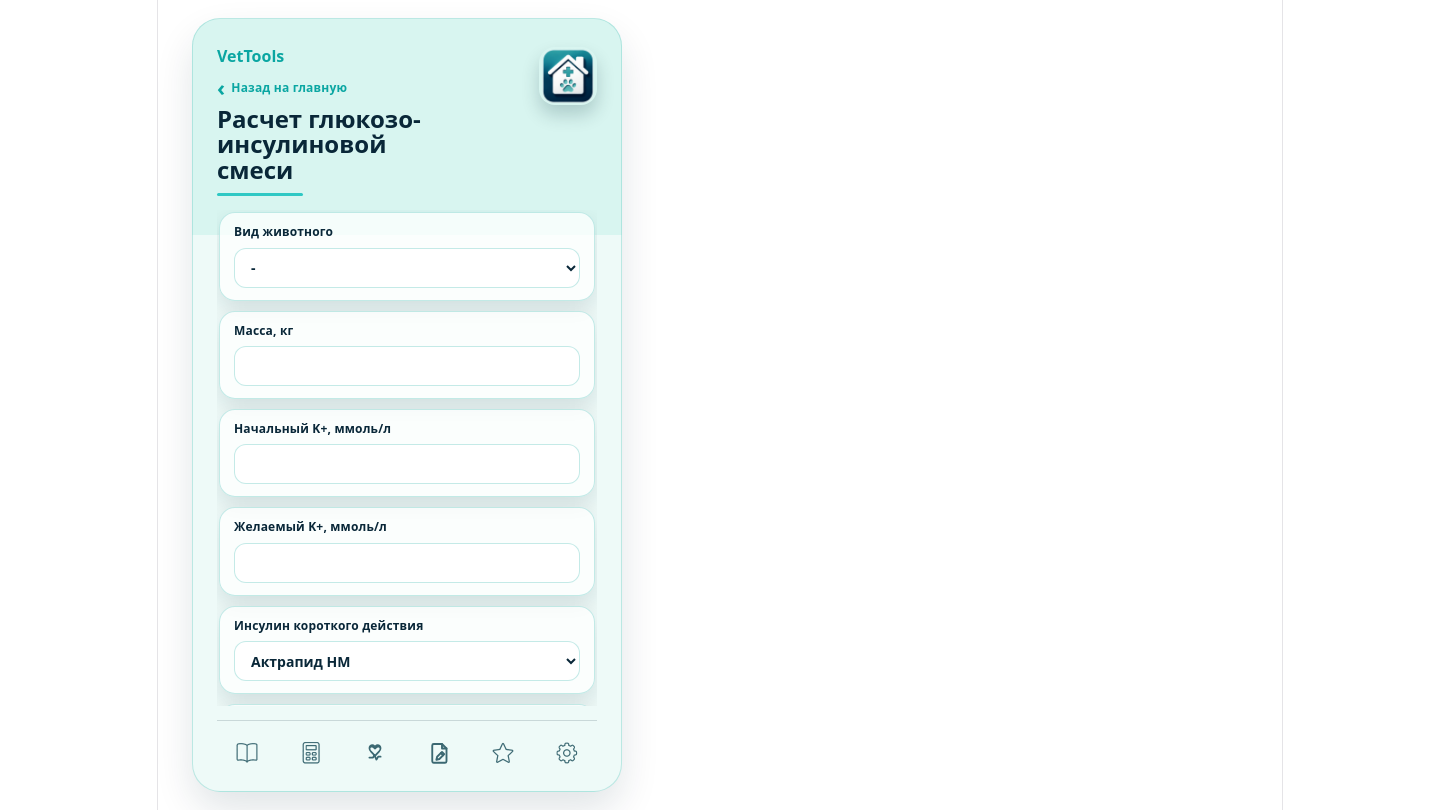
Scenario: GlucoseInsulinPage › calculates the regular insulin and 50% glucose protocol
Expected: the heading "Расчет глюкозо-инсулиновой смеси" is shown, [217,106,455,196]
Select "Собака" in the dropdown labelled "Вид животного" at {"x": 407, "y": 268}, box [234,248,580,288]
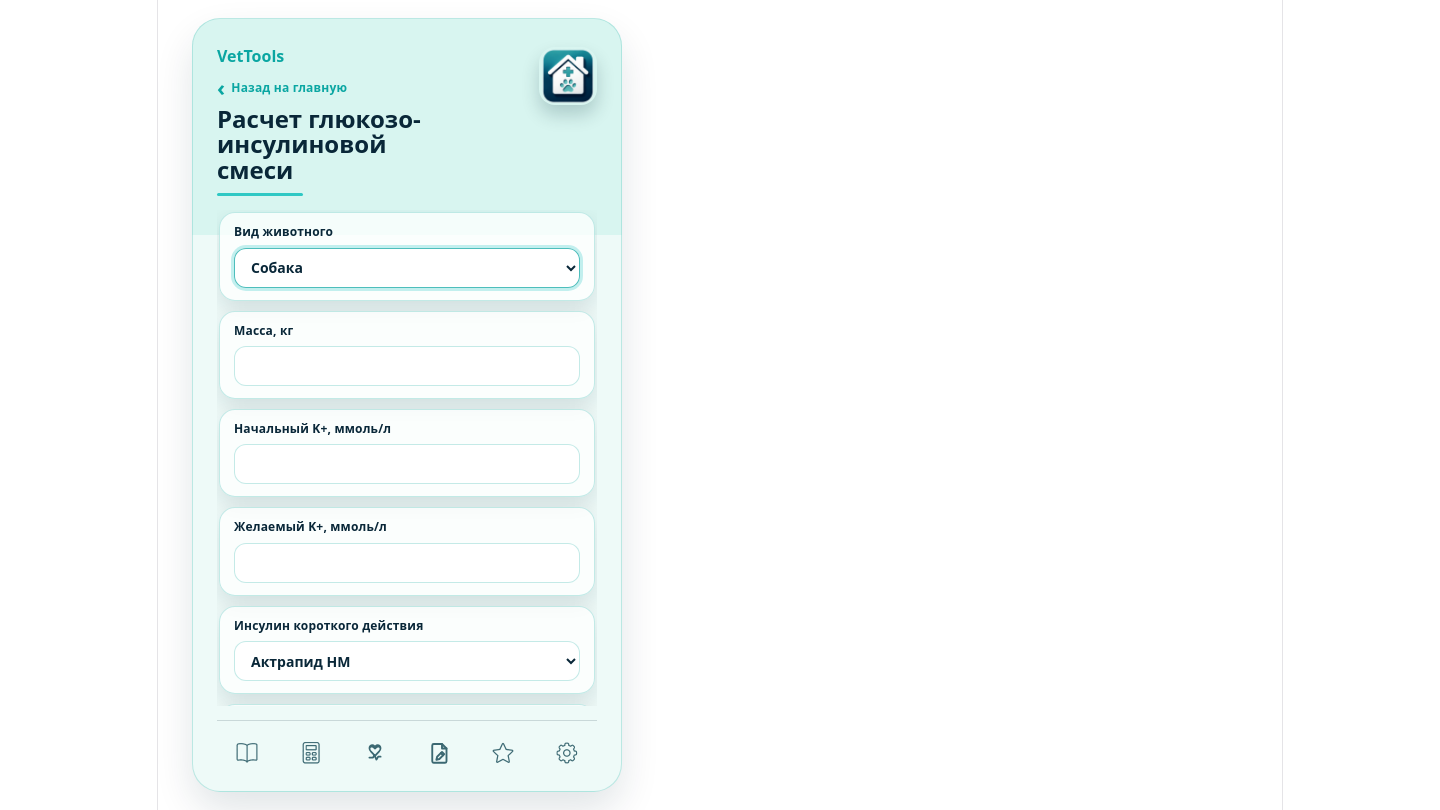
Type "10" into the number field labelled "Масса, кг".
click(407, 366); type("10")  # box [234,346,580,386]
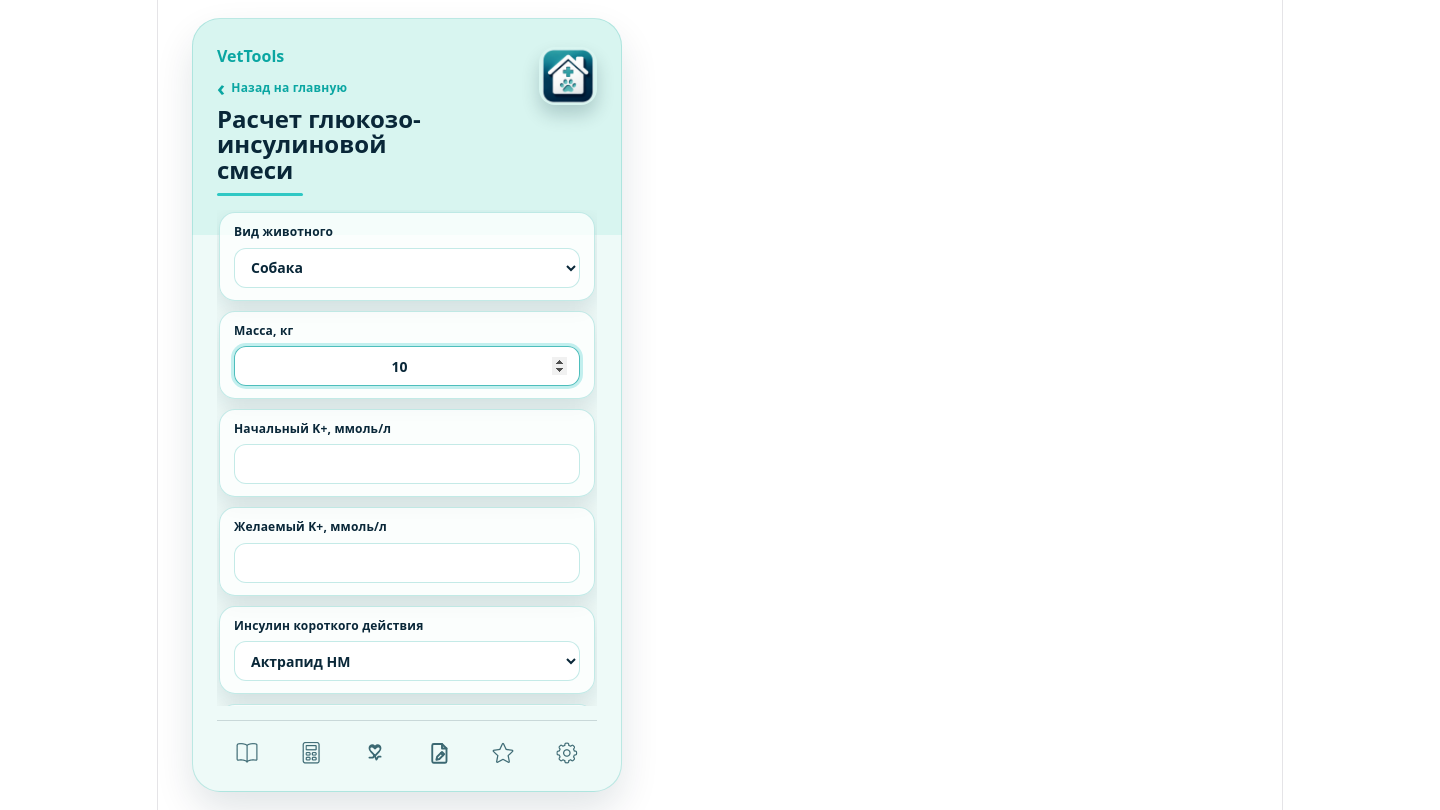
Type "8" into the number field labelled "Начальный K+, ммоль/л".
click(407, 464); type("8")  # box [234,444,580,484]
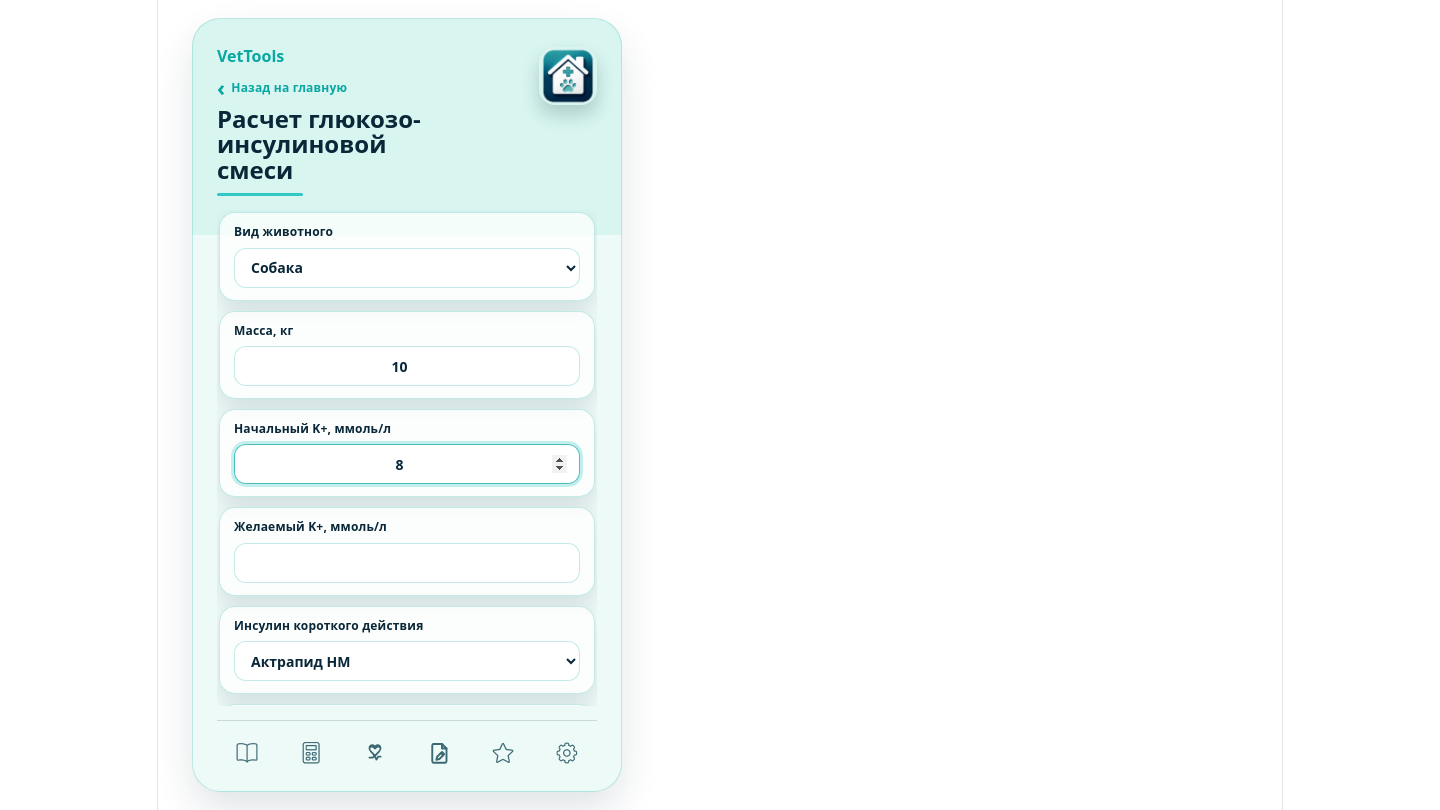
Type "6" into the number field labelled "Желаемый K+, ммоль/л".
click(407, 563); type("6")  # box [234,543,580,583]
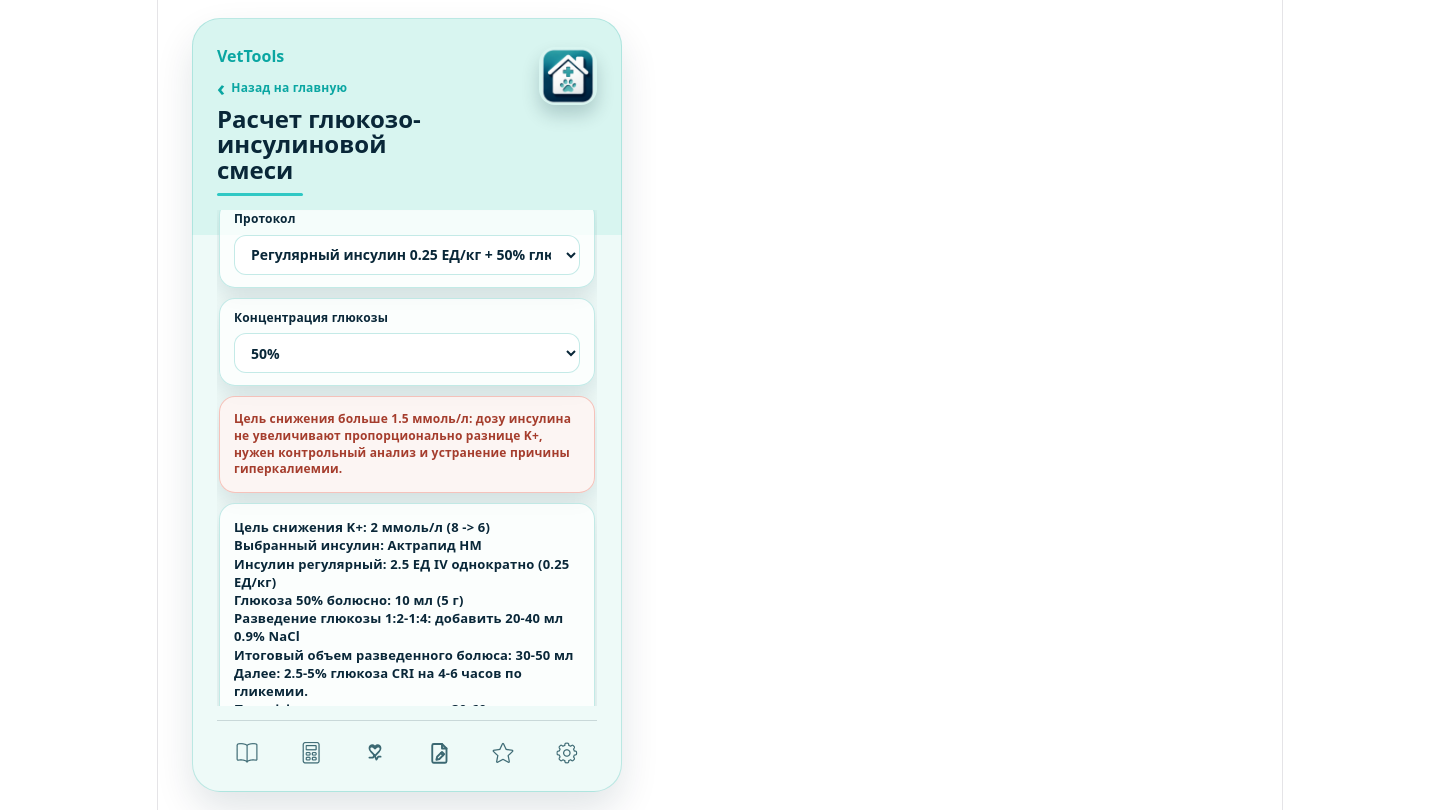
Expected: the text "Итоговый объем разведенного болюса: 30-50 мл" is shown, [234,518,574,706]
Expected: the text "Цель снижения больше 1.5 ммоль/л" is shown, [234,410,571,477]
